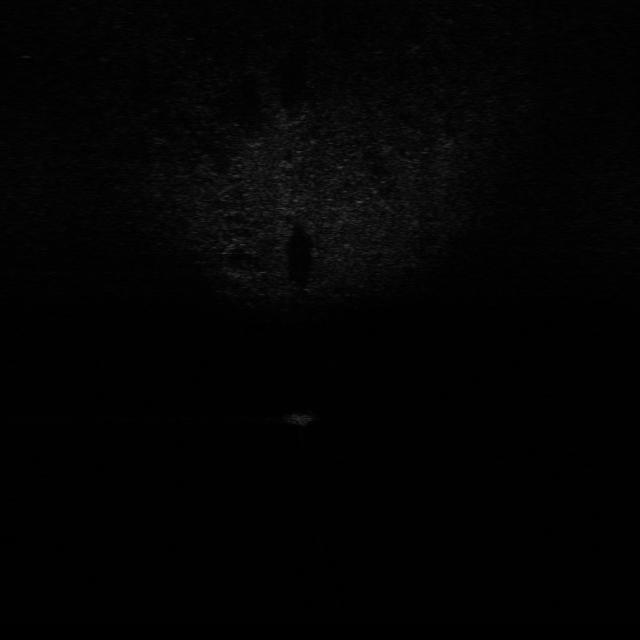cube: (284, 406, 326, 427)
